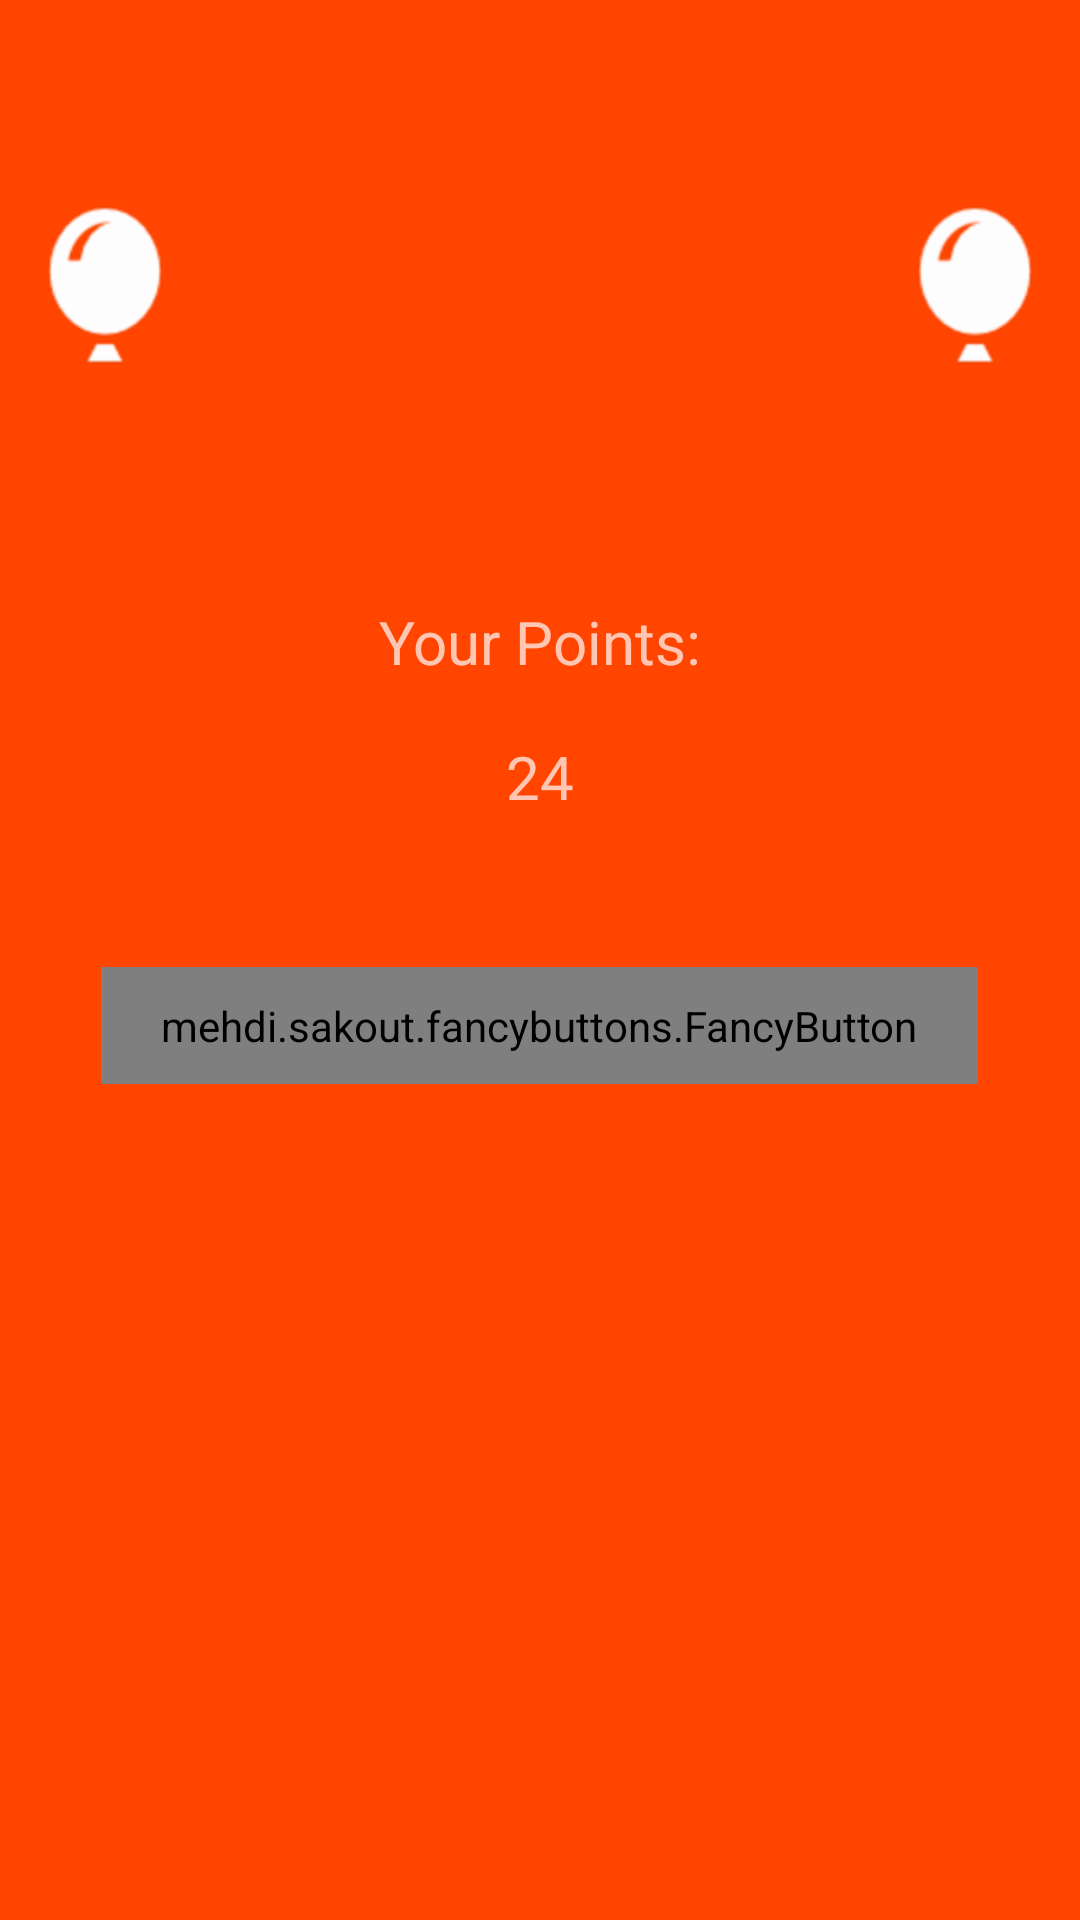

Where icons sit on this 1080px×1920px app screen, as box(x1, y1, x2, y2):
balloon: box(49, 207, 161, 363), box(919, 207, 1031, 363)
